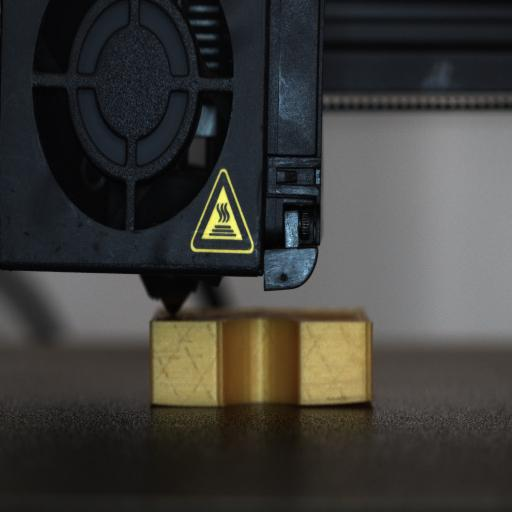warp: (334, 388, 380, 412)
